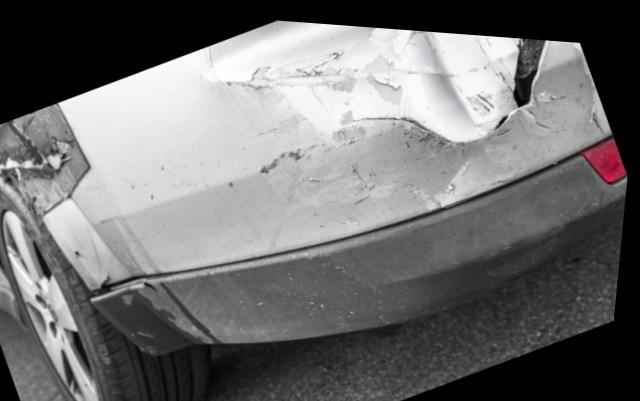crack: (495, 30, 546, 123)
dent: (274, 22, 477, 140)
rub: (0, 100, 100, 217)
scratch: (254, 107, 540, 209)
